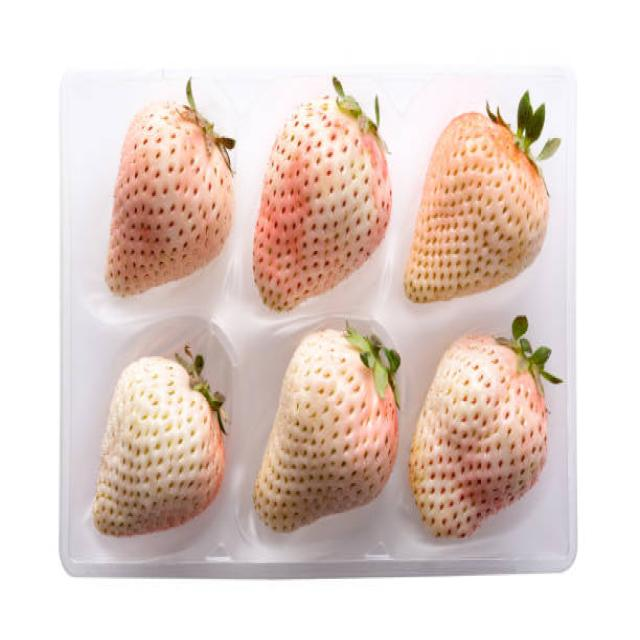Healthy Fruit: (252, 92, 393, 315), (253, 327, 400, 536), (411, 333, 548, 543), (404, 111, 548, 302), (107, 101, 236, 299), (93, 356, 227, 539)
